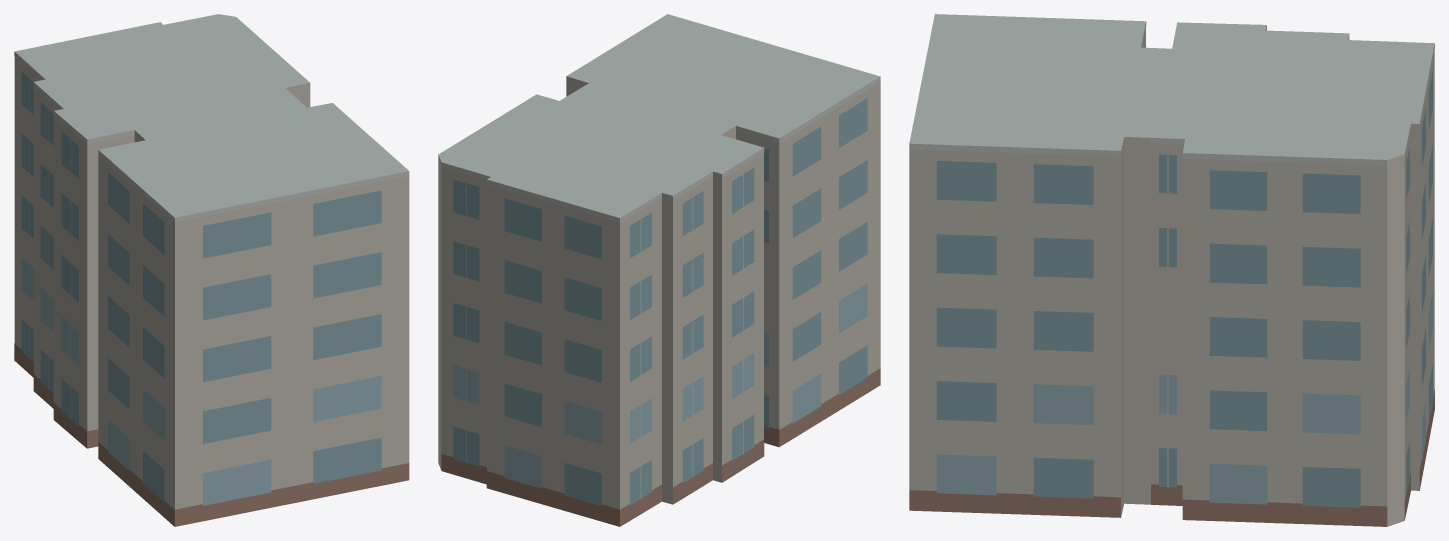
File: survey-upis-32761013.glb
The picture shows the model from 3 angles, left to right: view 1: azimuth 30°, elevation 25°; view 2: azimuth 150°, elevation 25°; view 3: azimuth 270°, elevation 25°; orthographic projection. The views are drawn at different scales.
Parts seen in each view (by area): view 1: survey-upis-32761013.tmp; view 2: survey-upis-32761013.tmp; view 3: survey-upis-32761013.tmp.
Part boxes in pixels (box(x1,y1,x2,y2)): survey-upis-32761013.tmp: box(14, 14, 409, 526); survey-upis-32761013.tmp: box(438, 14, 880, 526); survey-upis-32761013.tmp: box(909, 14, 1434, 526).
Bounding box in the file's own units: 13.23 × 15.5 × 20.13.
